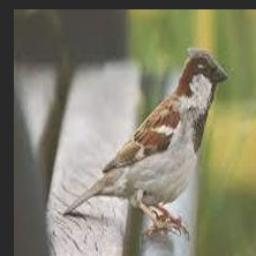Sparrow: (62, 48, 227, 241)
